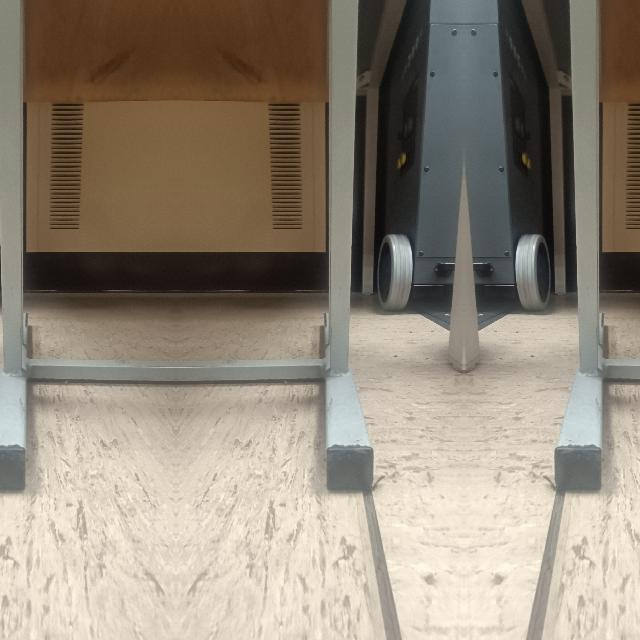obstacle: (300, 238, 380, 490), (547, 238, 627, 490), (0, 237, 50, 490)
